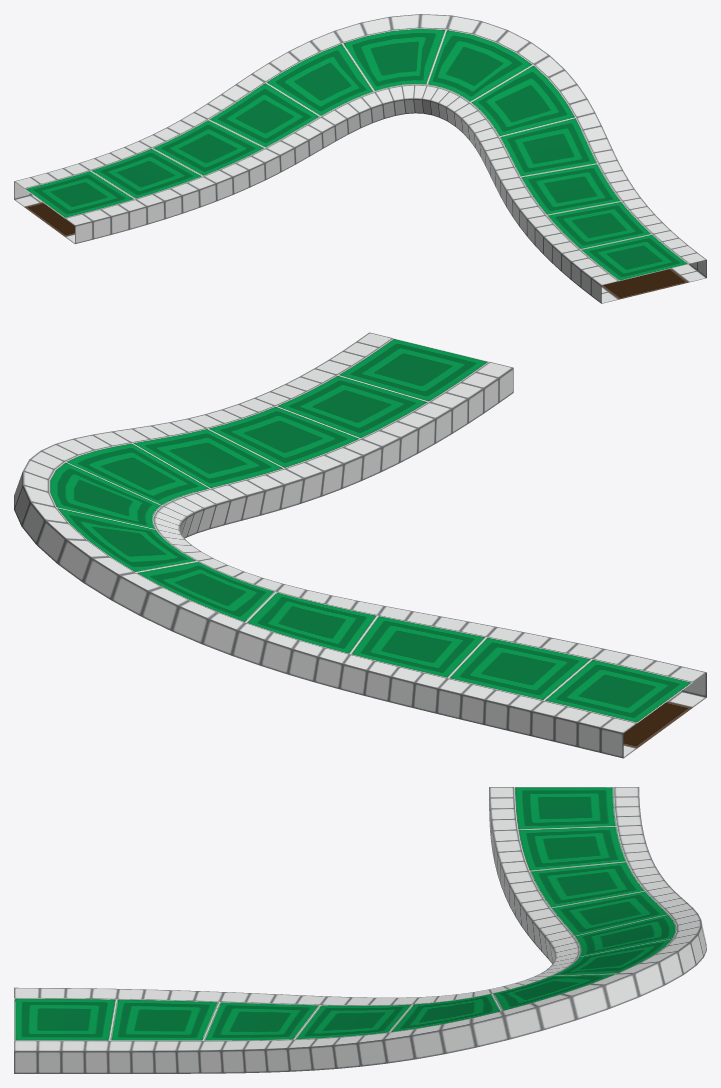
File: SlopeMomentum_BMCurve3.obj
3 views of the same model, one above another, from view 1: azimuth 30°, elevation 25°; view 2: azimuth 150°, elevation 25°; view 3: azimuth 270°, elevation 25° (orthographic). The views are drawn at different scales.
Visible parts, largest first — view 1: Cube_Cube.001; view 2: Cube_Cube.001; view 3: Cube_Cube.001.
Boxes of the visible parts, <box> form: Cube_Cube.001: <box>14,14,706,303</box>; Cube_Cube.001: <box>14,332,706,758</box>; Cube_Cube.001: <box>14,787,706,1073</box>.
Size of the model in its own units: 13.86 by 2.17 by 13.86.
